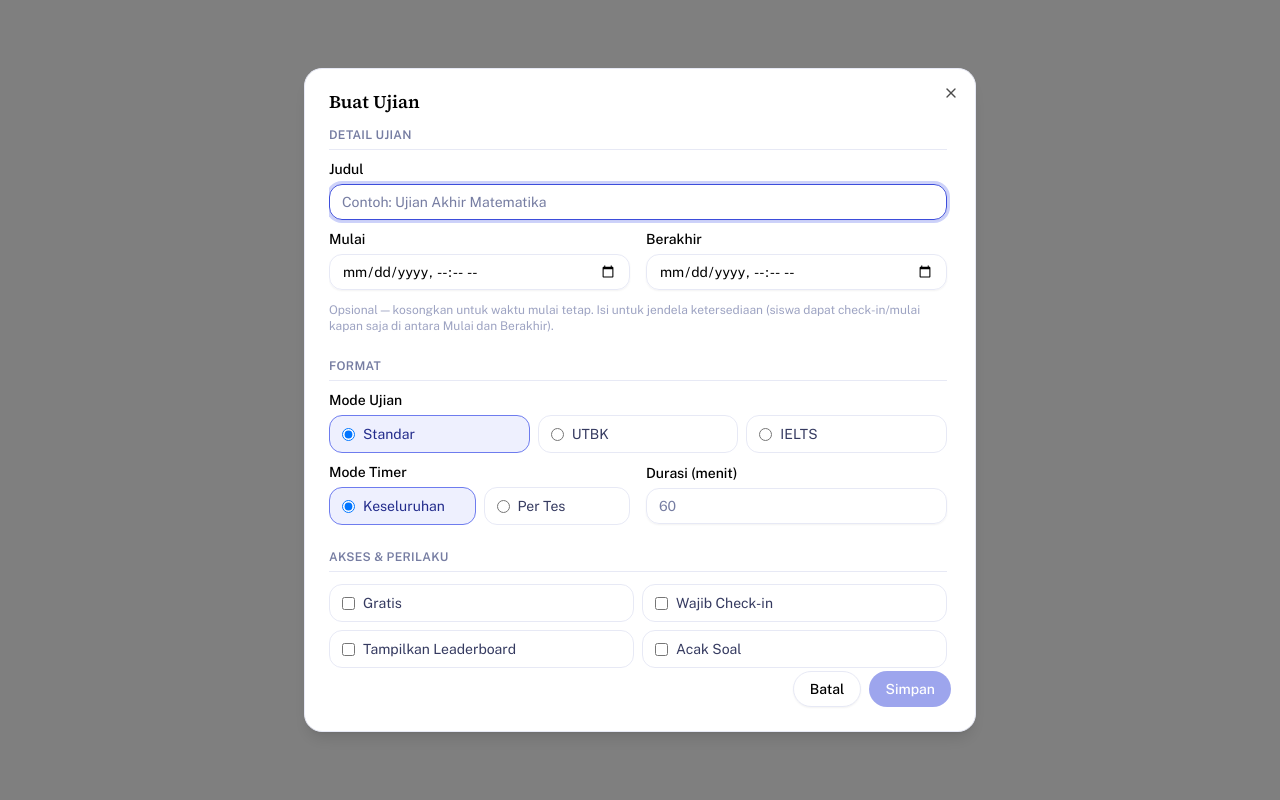
Test case: ExamModal › shows a hint when utbk or ielts mode is selected
Expected: the text "Setiap tes terlampir akan menjadi sesi dengan timer tersendiri." is not shown
// Select UTBK → hint appears
Click the radio button labelled "UTBK": (557, 434) x1=551 y1=428 x2=564 y2=440
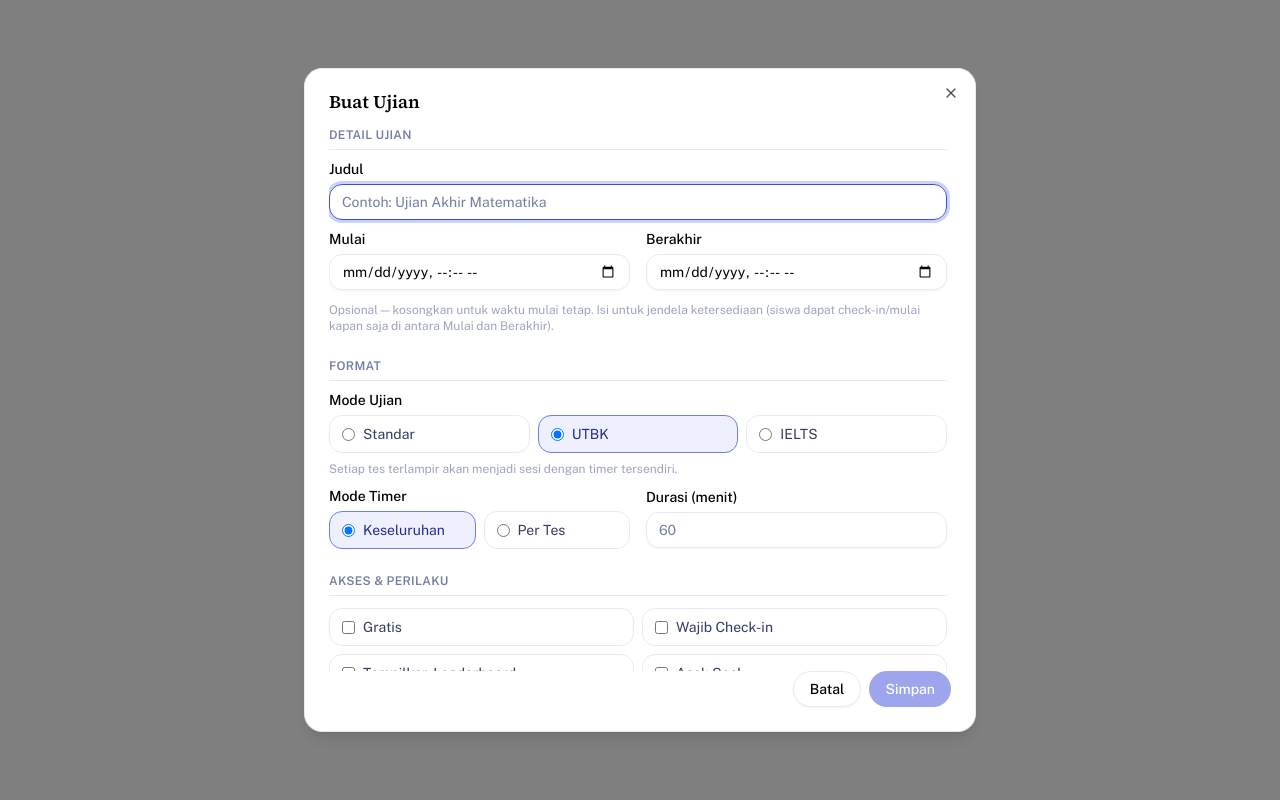
Now the text "Setiap tes terlampir akan menjadi sesi dengan timer tersendiri." is shown, box x1=329 y1=462 x2=677 y2=476
// Switch back to Standard → hint disappears
Click the radio button labelled "Standar": (348, 434) x1=342 y1=428 x2=355 y2=440
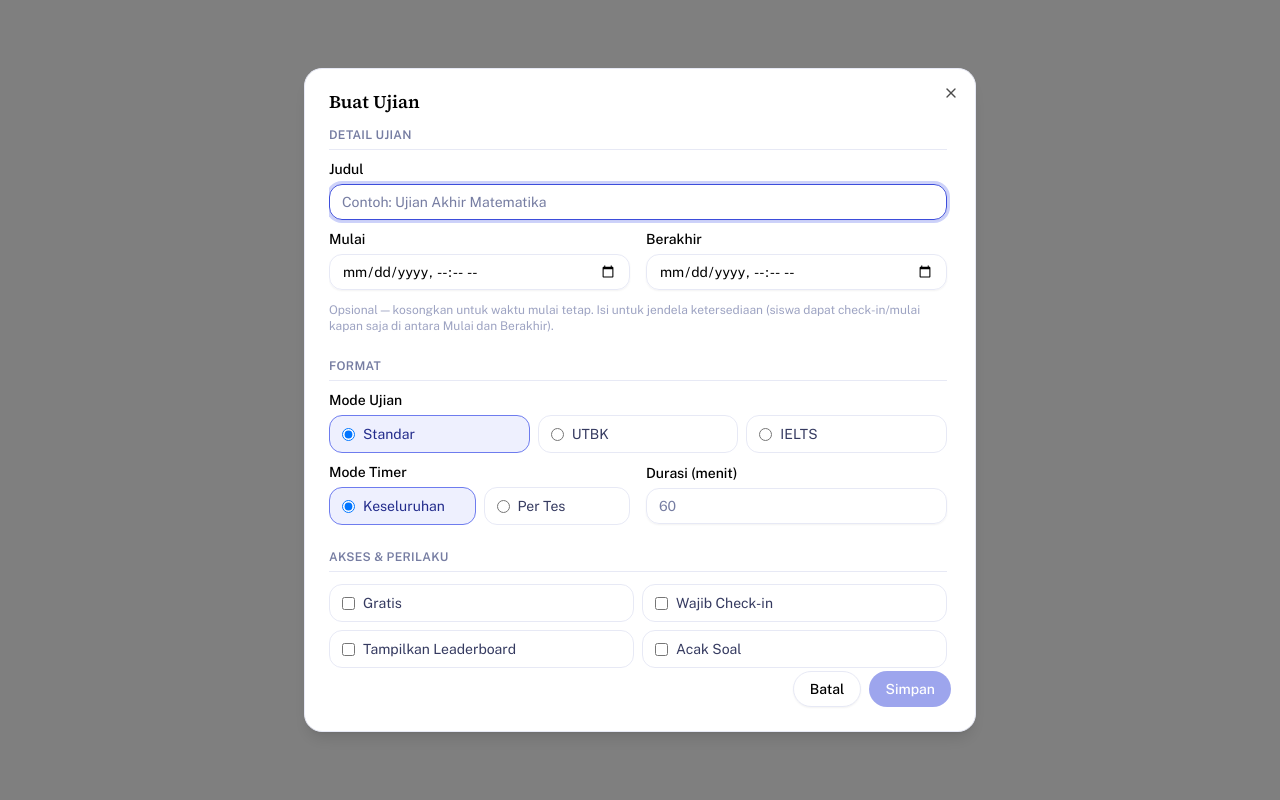
Now the text "Setiap tes terlampir akan menjadi sesi dengan timer tersendiri." is gone
